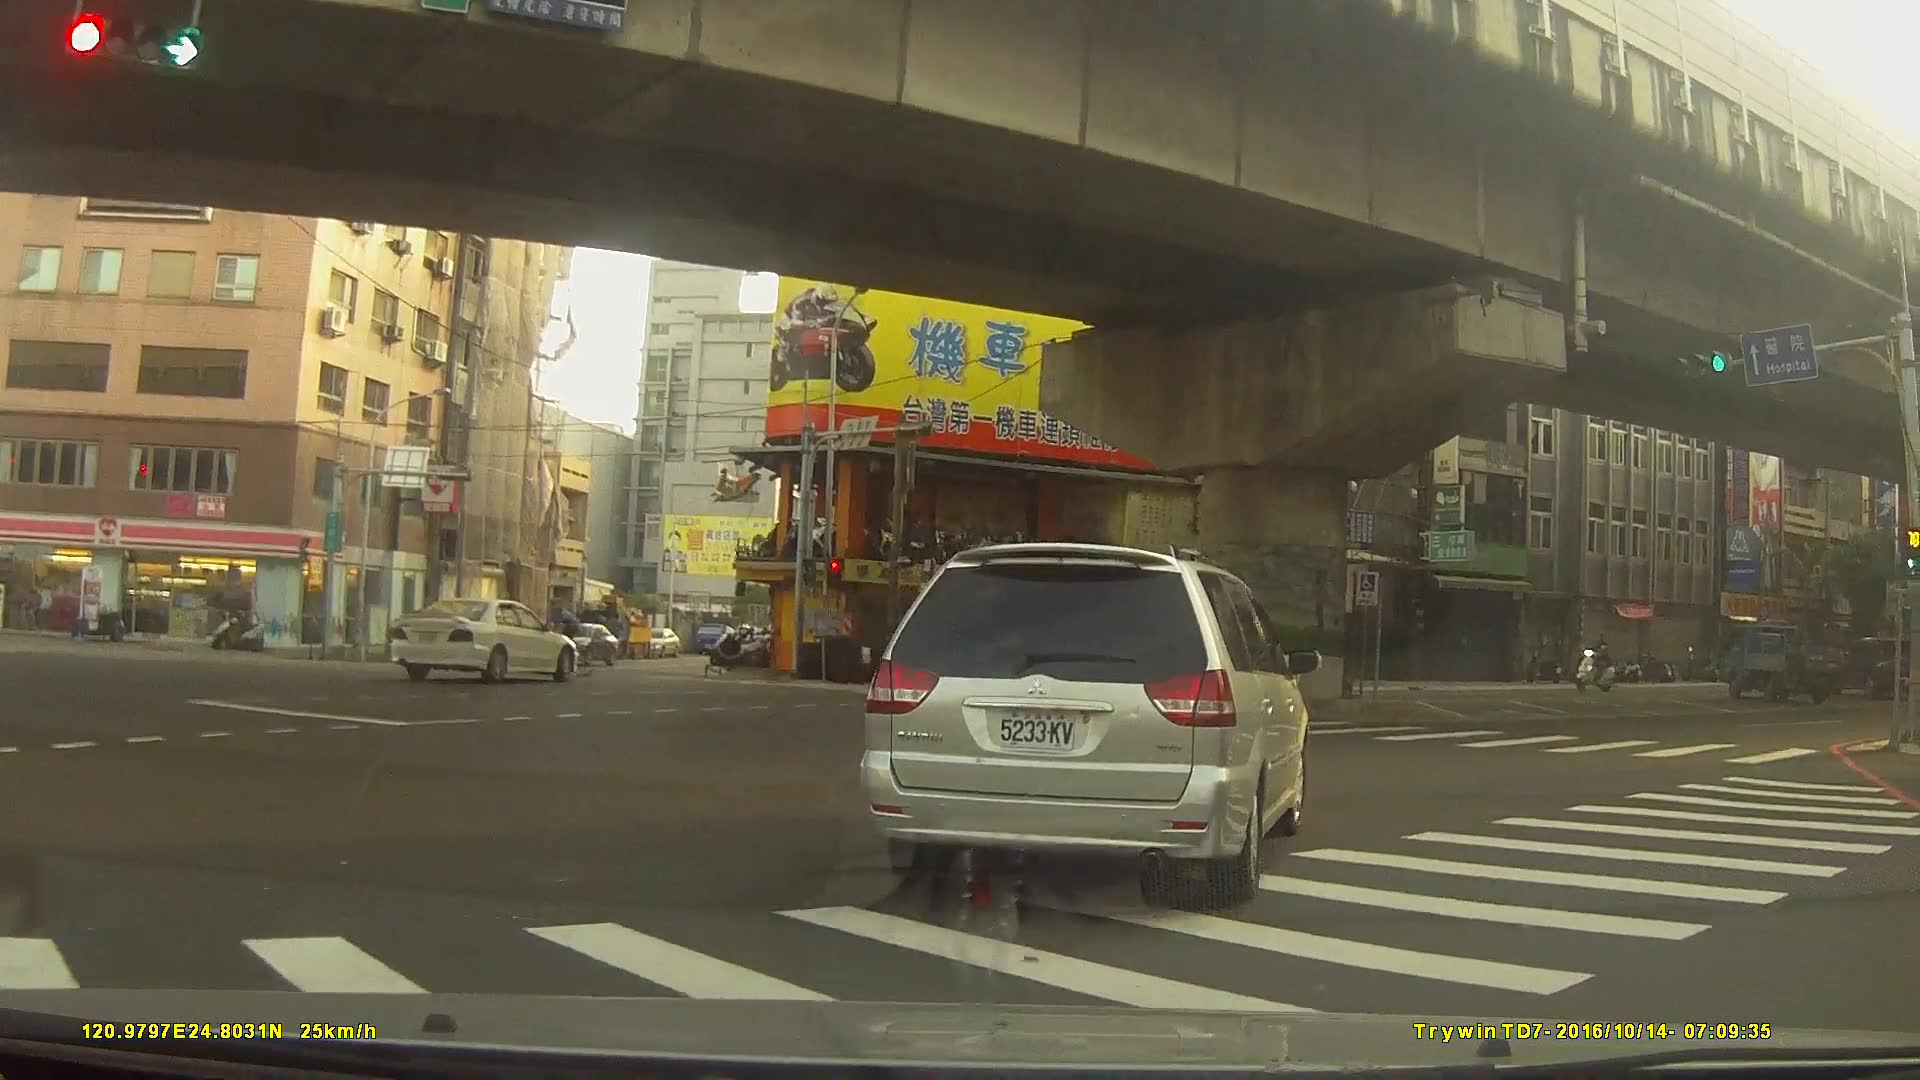rider: (524, 596, 597, 679), (1577, 637, 1619, 692)
vehicle: (860, 541, 1310, 906), (389, 596, 574, 682), (1721, 618, 1845, 701), (1826, 634, 1914, 698), (547, 622, 621, 664), (641, 624, 681, 655)
